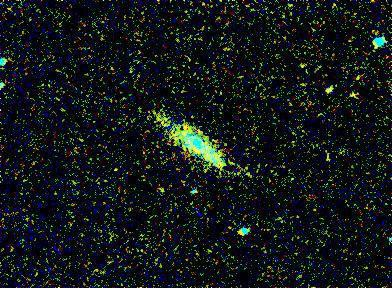star: (313, 76, 343, 106)
